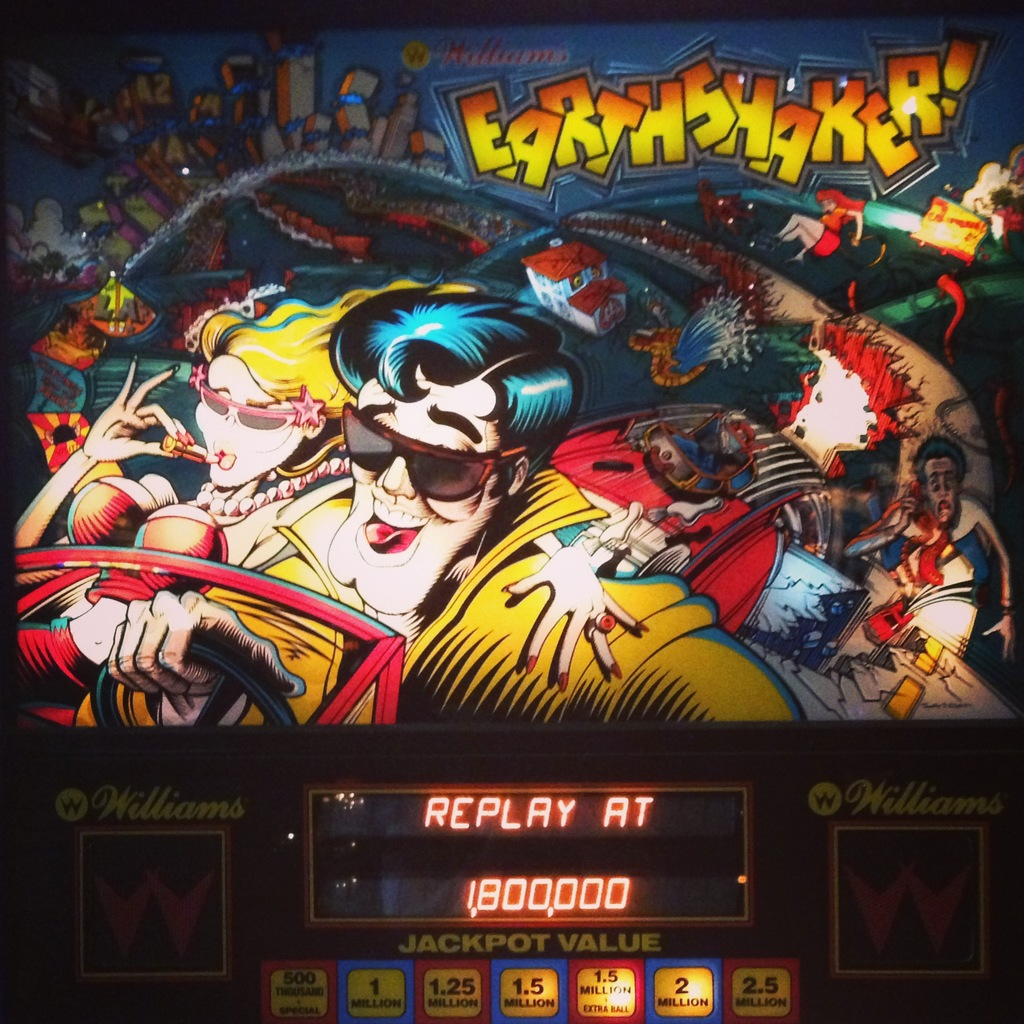Person: (8, 43, 1022, 684)
